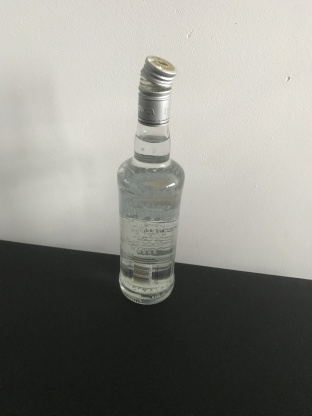nakretka: (136, 53, 177, 127)
